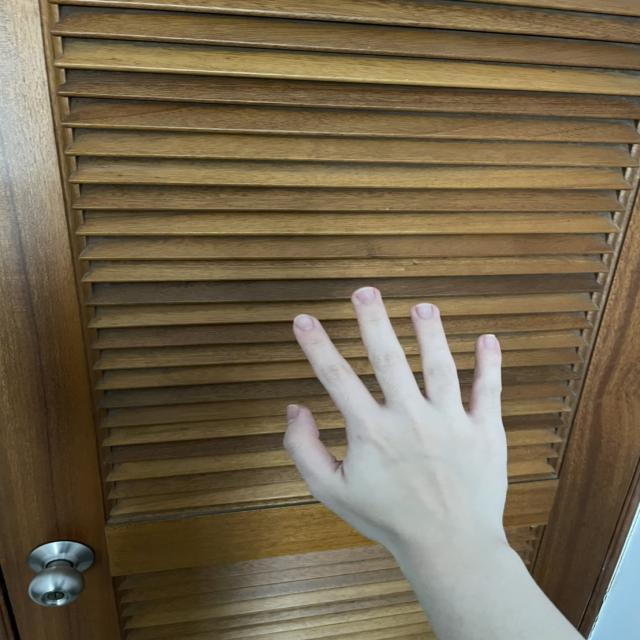hand: (276, 284, 518, 578)
